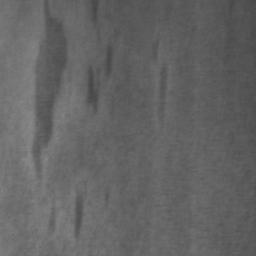Inclusion: (31, 0, 68, 178), (87, 67, 100, 110), (74, 193, 84, 239)
